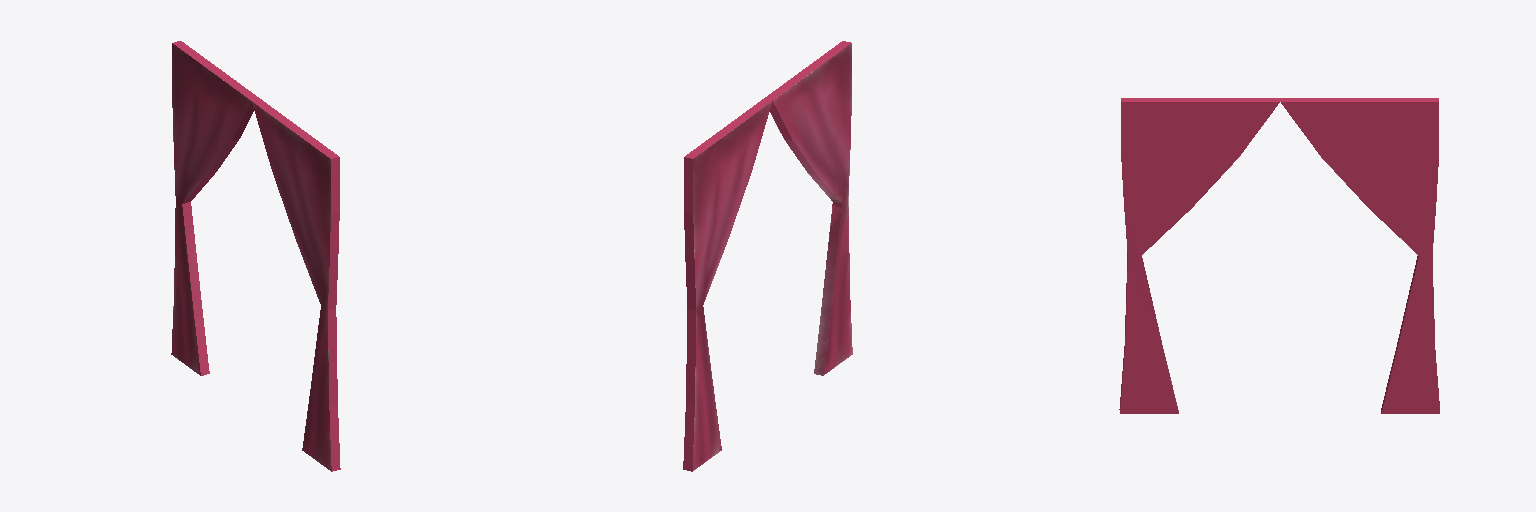
3 views of the same model, side by side, from view 1: azimuth 30°, elevation 25°; view 2: azimuth 150°, elevation 25°; view 3: azimuth 270°, elevation 25° (orthographic).
Parts seen in each view (by area): view 1: Cube.002_Cube.014_None.003; view 2: Cube.002_Cube.014_None.003; view 3: Cube.002_Cube.014_None.003.
Part boxes in pixels (x1,y1,x2,y2): Cube.002_Cube.014_None.003: (171, 41, 340, 471); Cube.002_Cube.014_None.003: (683, 41, 852, 471); Cube.002_Cube.014_None.003: (1119, 98, 1439, 413).
Size of the model in its own units: 0.0693 by 2.26 by 2.11.
Materials: 1 (1 with a texture image).